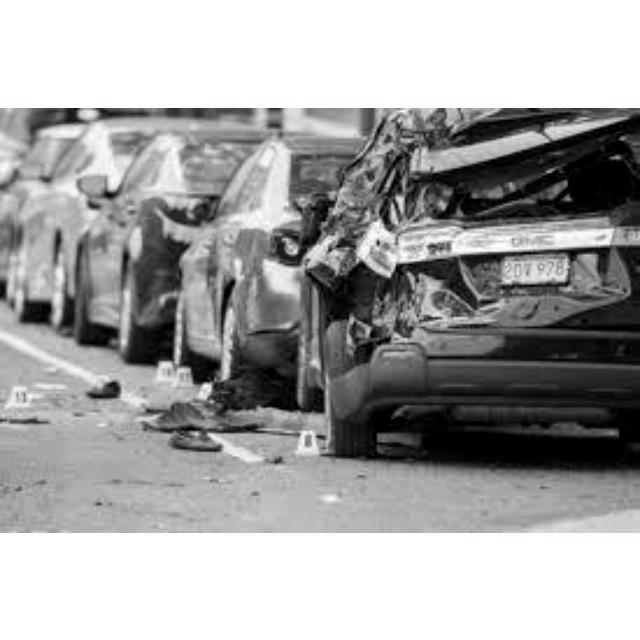boot-dent: (393, 231, 637, 342)
